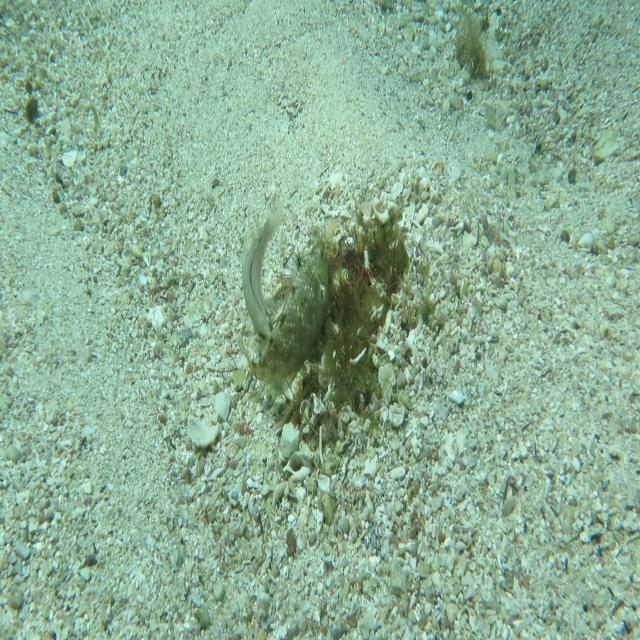DAN_CIRC: (236, 236, 331, 396)
core_nest: (342, 220, 396, 276)
female: (240, 198, 286, 341)
nest: (267, 174, 427, 440)
